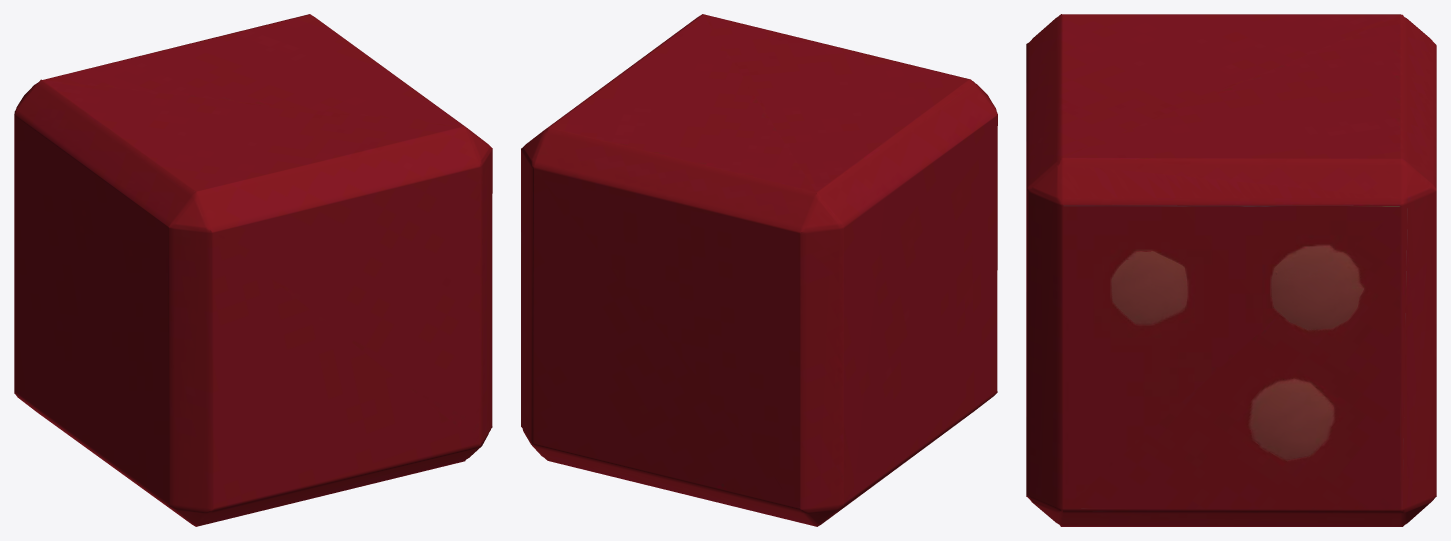
Rendered from selected.glb.
3 renders of one model, left to right at view 1: azimuth 30°, elevation 25°; view 2: azimuth 150°, elevation 25°; view 3: azimuth 270°, elevation 25°, orthographic. The views are drawn at different scales.
Parts seen in each view (by area): view 1: tripo_node_a71cf358-dccb-4a2e-8a6f-9d134fbca6bf; view 2: tripo_node_a71cf358-dccb-4a2e-8a6f-9d134fbca6bf; view 3: tripo_node_a71cf358-dccb-4a2e-8a6f-9d134fbca6bf.
Boxes of the visible parts, bbox=[...] form: tripo_node_a71cf358-dccb-4a2e-8a6f-9d134fbca6bf: bbox=[14, 14, 492, 526]; tripo_node_a71cf358-dccb-4a2e-8a6f-9d134fbca6bf: bbox=[521, 14, 997, 526]; tripo_node_a71cf358-dccb-4a2e-8a6f-9d134fbca6bf: bbox=[1026, 14, 1436, 526].
Size of the model in its own units: 0.998 by 0.9824 by 0.9902.
Materials: 1 (1 with a texture image).
